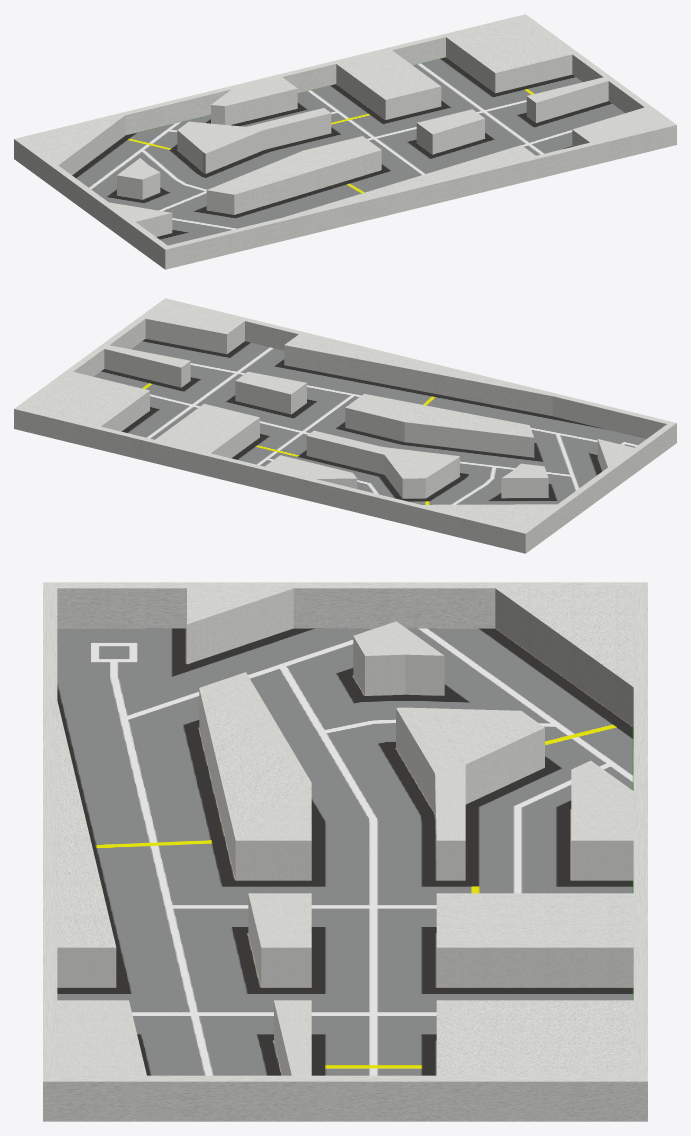
File: course1.dae
3 views of the same model, one above another, from view 1: azimuth 30°, elevation 25°; view 2: azimuth 150°, elevation 25°; view 3: azimuth 270°, elevation 25° (orthographic). The views are drawn at different scales.
Visible parts, largest first — view 1: Cube_1, Plane, Cube_2; view 2: Cube_1, Plane, Cube_2; view 3: Plane, Cube_1, Cube_2.
Part boxes in pixels (<box>): Cube_1: <box>24,18,666,236</box>; Plane: <box>72,57,624,245</box>; Cube_2: <box>14,14,676,269</box>; Cube_1: <box>24,302,634,529</box>; Plane: <box>94,339,646,504</box>; Cube_2: <box>14,298,676,553</box>; Plane: <box>57,628,633,1075</box>; Cube_1: <box>57,588,633,1075</box>; Cube_2: <box>43,582,647,1121</box>.
Size of the model in its own units: 6.15 by 3.15 by 0.23.
2 materials, 2 textured.
